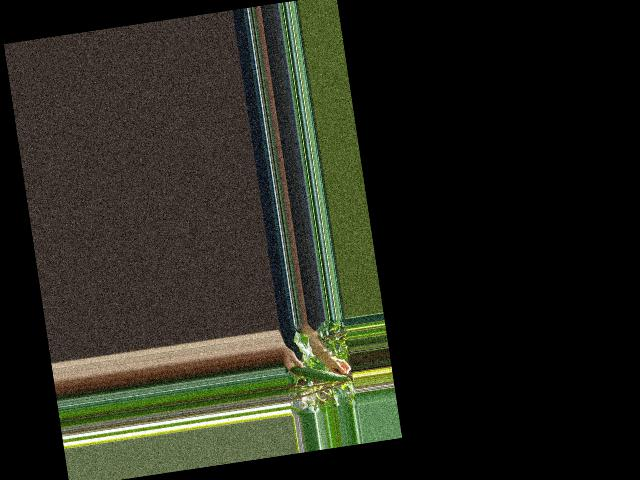cucumber: (289, 358, 347, 387)
